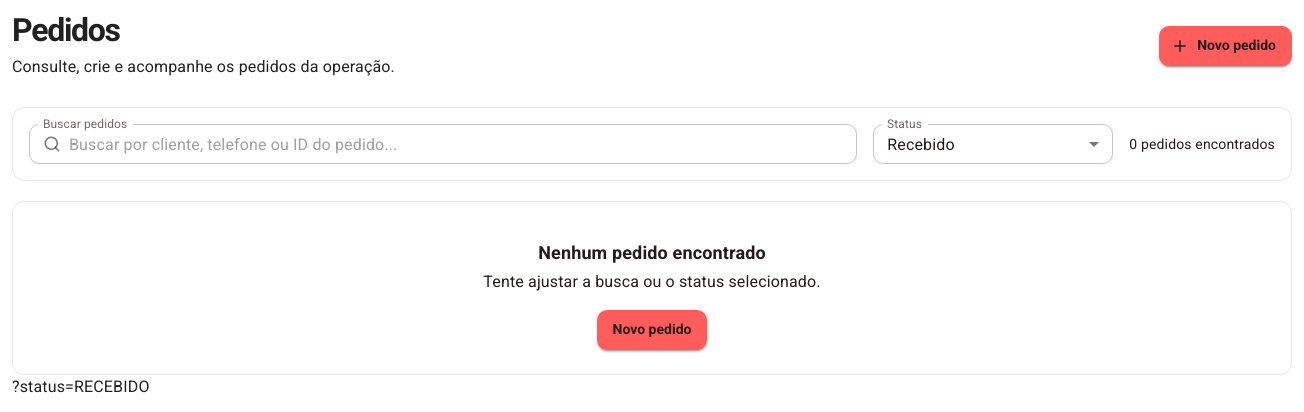
busca de pedidos › aplica o termo após o debounce, preserva o status e reinicia a página
This screenshot has width=1304, height=412.
Type "Maria" into the field labelled "Buscar pedidos" at [463, 144], box [69, 124, 857, 164]
Wait 350 ms
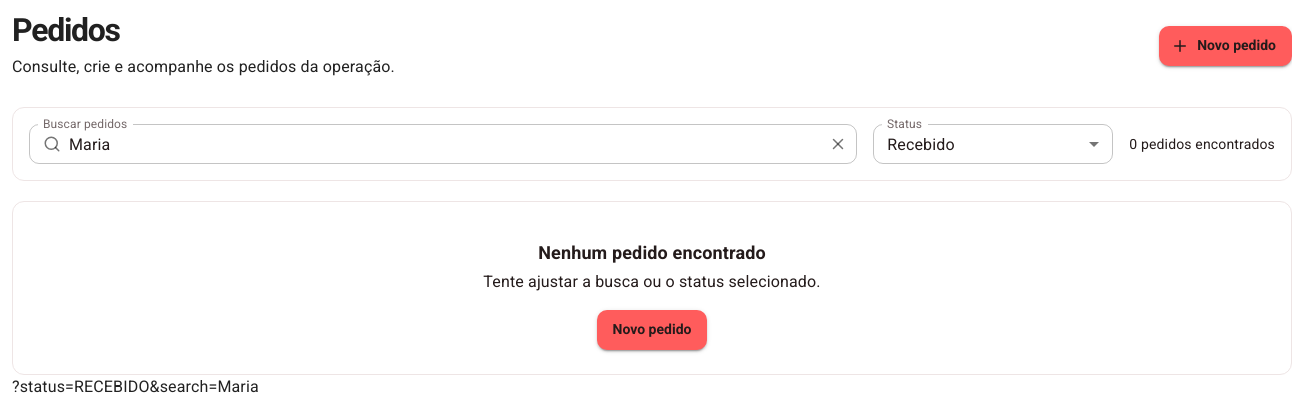
Expected: the text with test id "location" shows "status=RECEBIDO&search=Maria", [12, 377, 259, 396]
